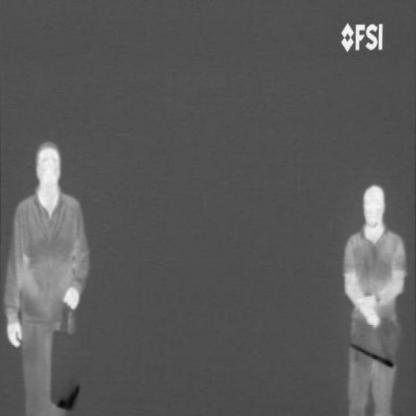weapon: (55, 380, 84, 412)
